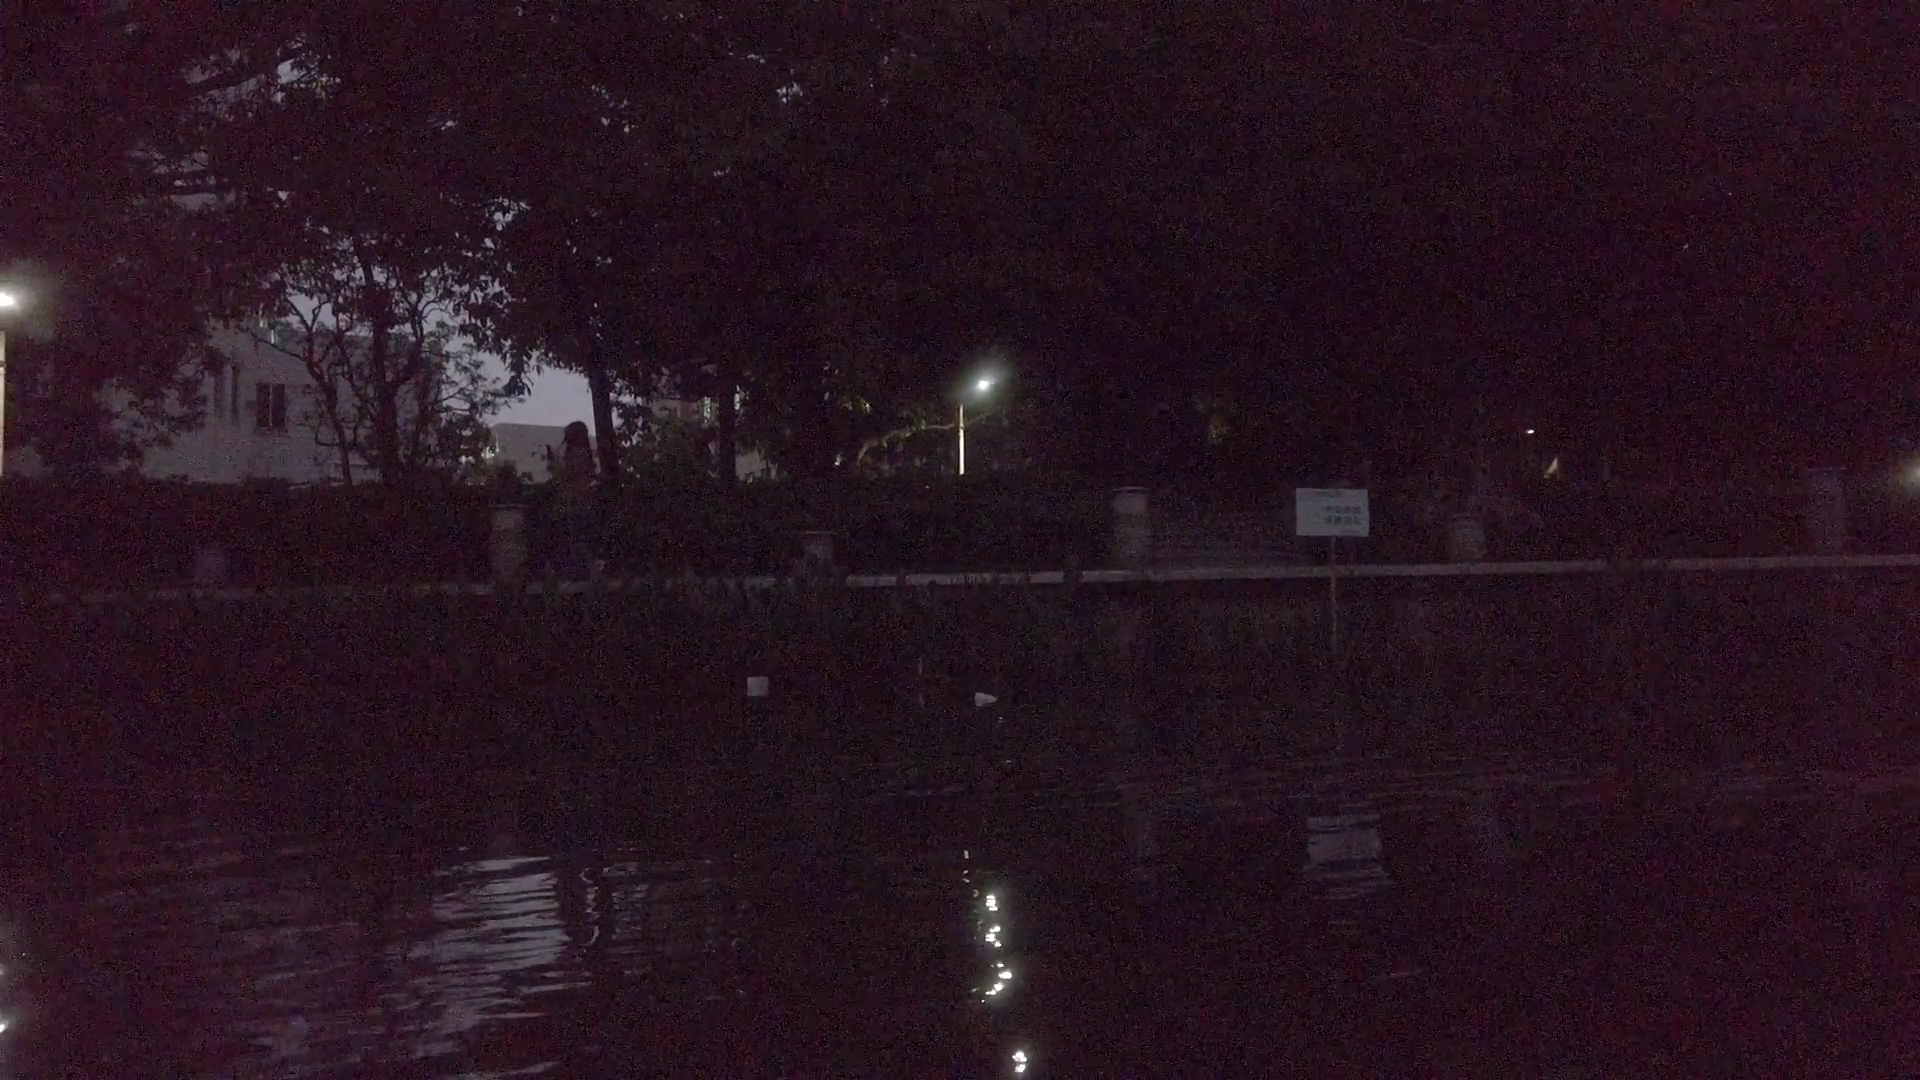carton: (746, 678, 762, 688), (973, 694, 994, 702)
